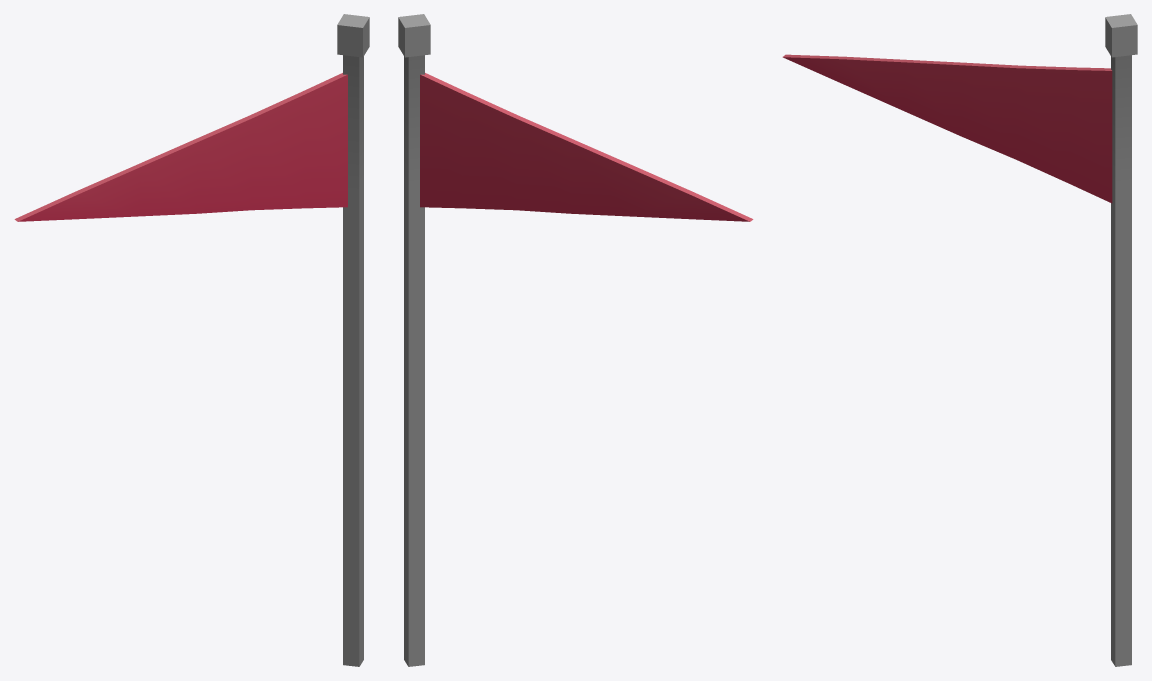
The model's file is flagPole_0.glb.
3 renders of one model, left to right at view 1: azimuth 30°, elevation 25°; view 2: azimuth 150°, elevation 25°; view 3: azimuth 330°, elevation 25°, orthographic.
Parts seen in each view (by area): view 1: flagPole; view 2: flagPole; view 3: flagPole.
Part boxes in pixels (x1,y1,x2,y2): flagPole: [14, 14, 369, 666]; flagPole: [398, 14, 753, 666]; flagPole: [782, 14, 1137, 666].
Bounding box in the file's own units: 0.7796 × 1.35 × 0.0732.
